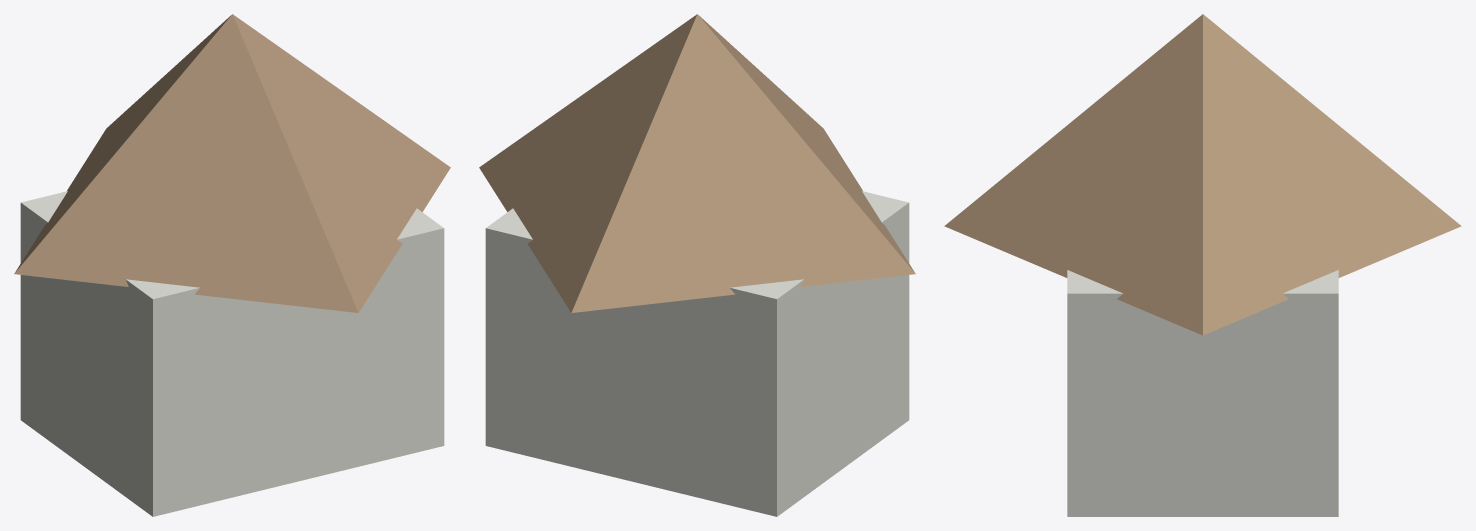
File: medieval_house.glb
3 renders of one model, left to right at view 1: azimuth 30°, elevation 25°; view 2: azimuth 150°, elevation 25°; view 3: azimuth 270°, elevation 25°, orthographic. The views are drawn at different scales.
Visible parts, largest first — view 1: medieval_house_MAT_light, medieval_house_MAT_wood; view 2: medieval_house_MAT_light, medieval_house_MAT_wood; view 3: medieval_house_MAT_wood, medieval_house_MAT_light.
Boxes of the visible parts, x1,y1,x2,y2 form: medieval_house_MAT_light: (20, 191, 444, 516); medieval_house_MAT_wood: (14, 14, 450, 312); medieval_house_MAT_light: (485, 191, 909, 516); medieval_house_MAT_wood: (479, 14, 915, 312); medieval_house_MAT_wood: (944, 14, 1461, 335); medieval_house_MAT_light: (1067, 270, 1338, 516).
Bounding box in the file's own units: 2.1 × 1.93 × 2.1.
